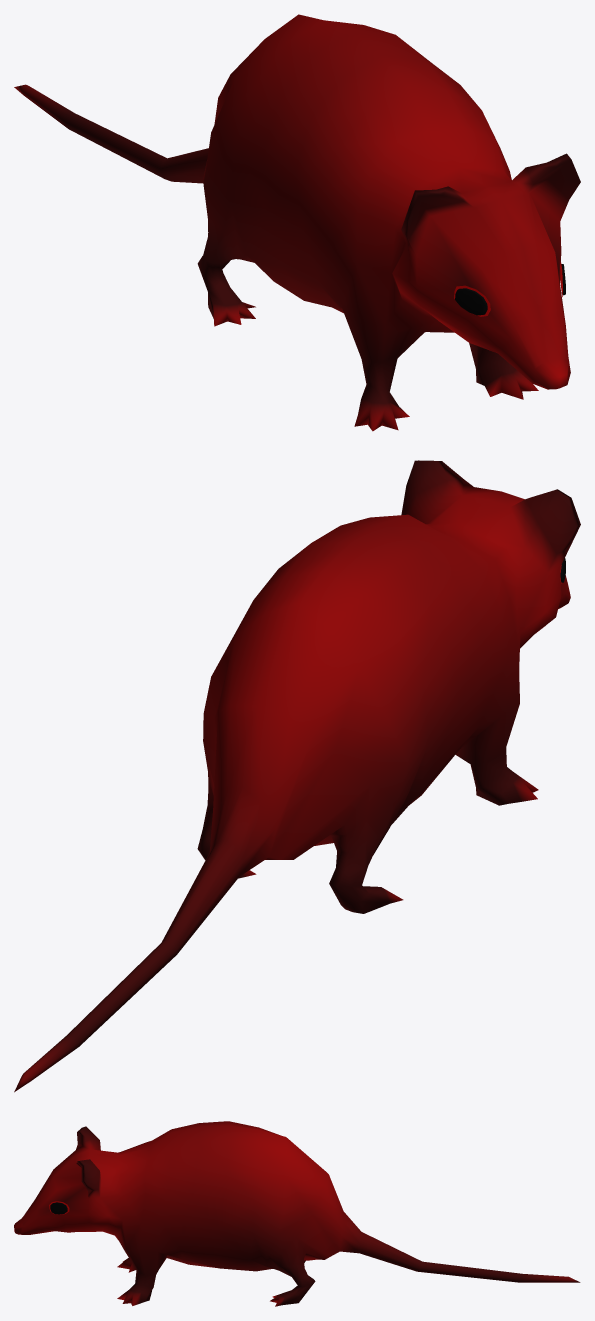
Rendered from Animals_Opossum.fbx.
3 renders of one model, top to bottom at view 1: azimuth 30°, elevation 25°; view 2: azimuth 150°, elevation 25°; view 3: azimuth 270°, elevation 25°, orthographic. The views are drawn at different scales.
Parts seen in each view (by area): view 1: base; view 2: base; view 3: base.
Boxes of the visible parts, x1,y1,x2,y2 form: base: (14,14,580,431); base: (14,460,580,1092); base: (14,1121,580,1306).
Bounding box in the file's own units: 23.09 × 32.81 × 107.
